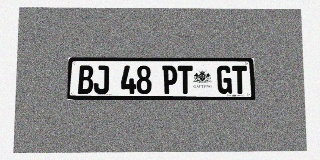4: (121, 65, 136, 94)
8: (136, 65, 151, 94)
B: (78, 65, 93, 94)
G: (217, 66, 232, 94)
J: (94, 65, 109, 94)
P: (162, 66, 177, 94)
T: (178, 66, 193, 94), (232, 66, 247, 94)
